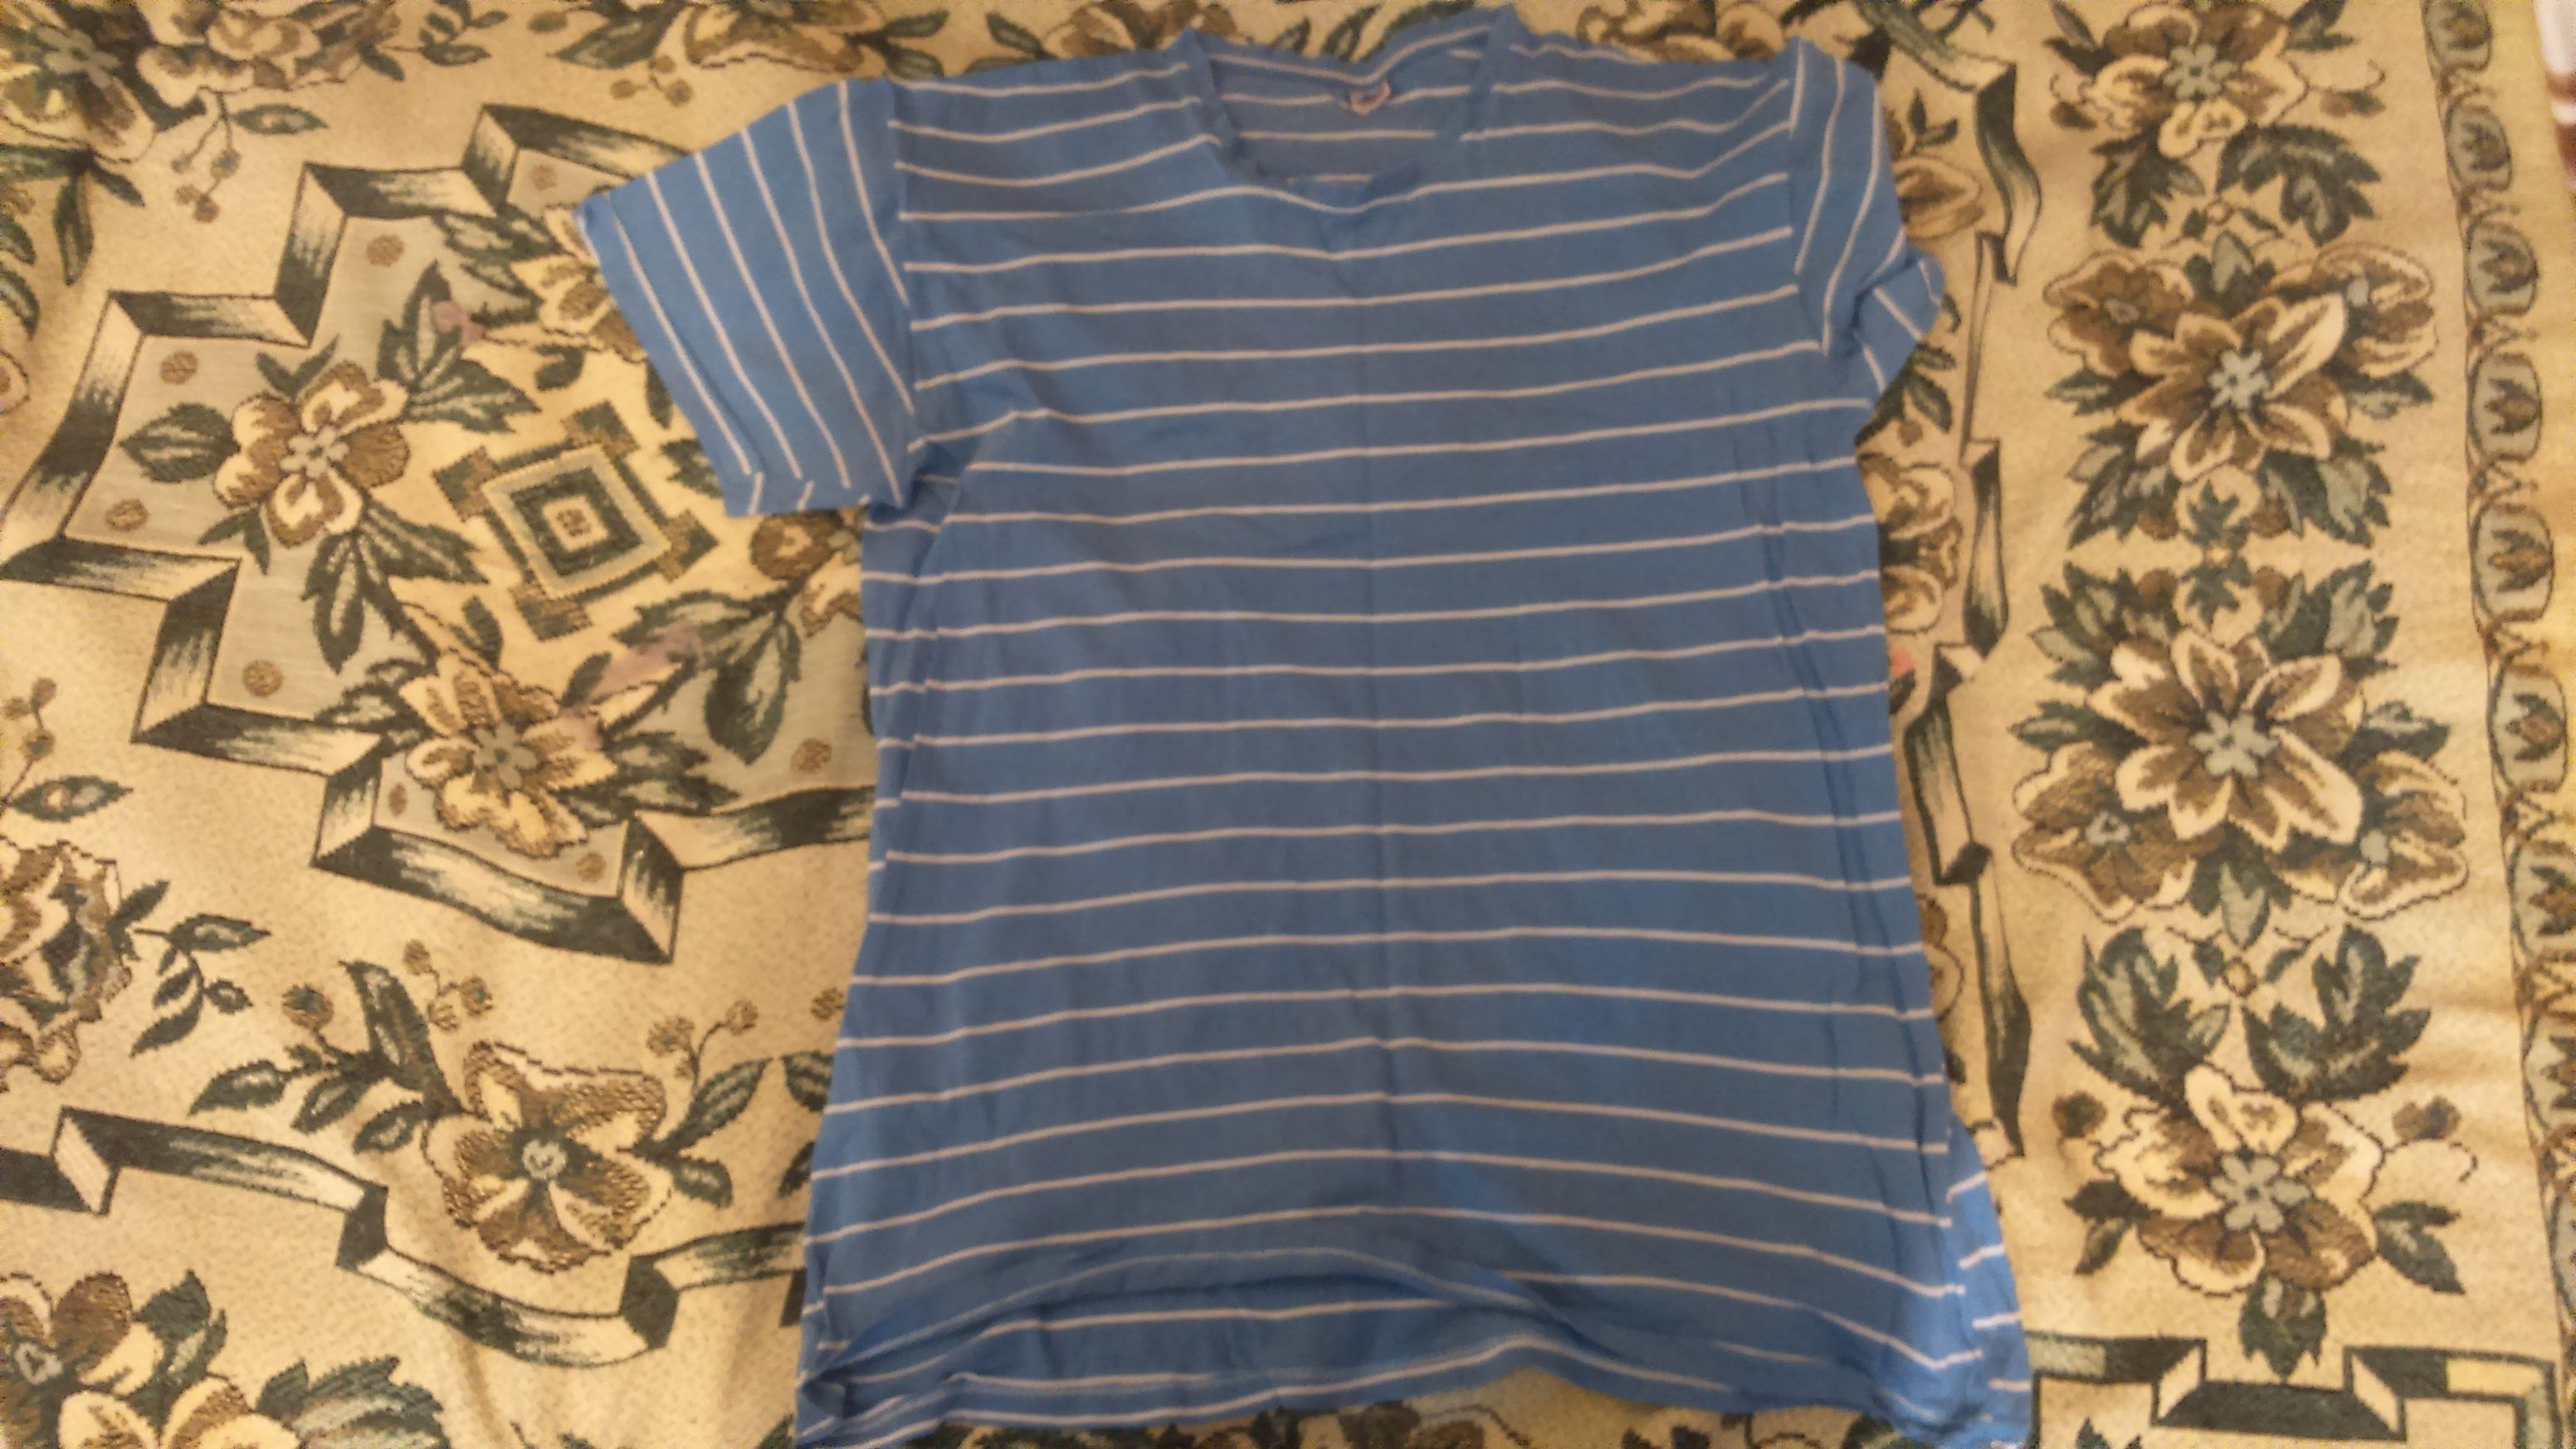clothes: (587, 51, 2070, 1445)
